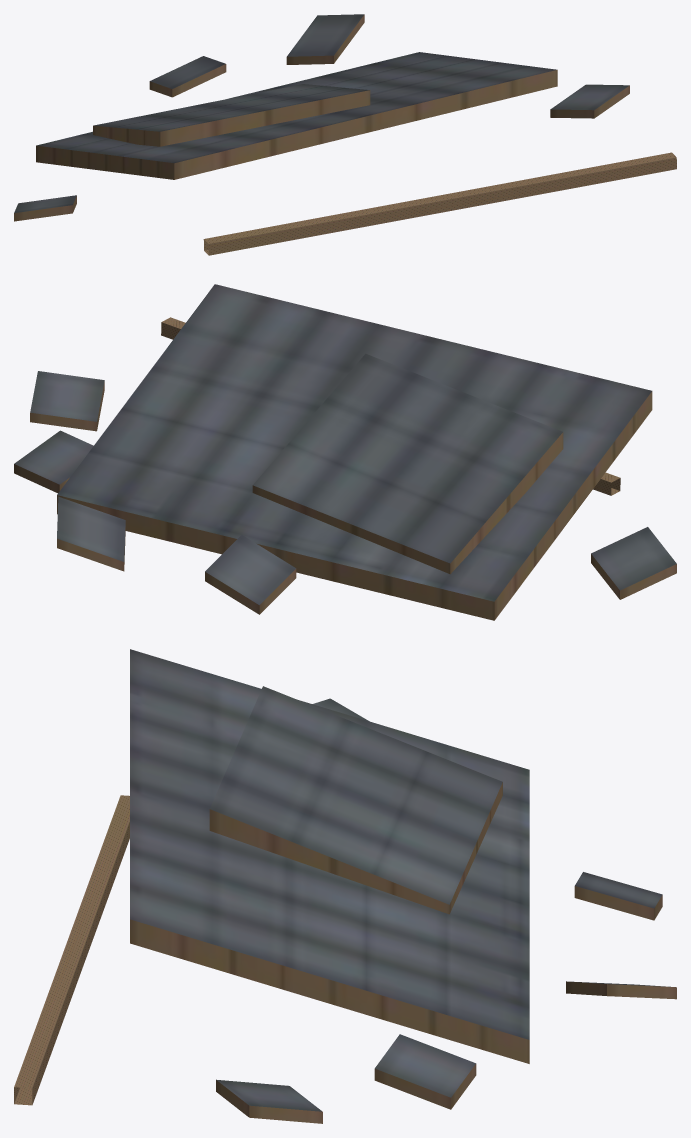
Rendered from debris_tokyo_roof_tiles.glb.
The picture shows the model from 3 angles, top to bottom: view 1: azimuth 30°, elevation 25°; view 2: azimuth 150°, elevation 25°; view 3: azimuth 270°, elevation 25°; orthographic projection. The views are drawn at different scales.
Parts seen in each view (by area): view 1: debris_tokyo_roof_tiles; view 2: debris_tokyo_roof_tiles; view 3: debris_tokyo_roof_tiles.
Part boxes in pixels (bbox=[...]): debris_tokyo_roof_tiles: bbox=[14, 14, 676, 255]; debris_tokyo_roof_tiles: bbox=[14, 284, 676, 620]; debris_tokyo_roof_tiles: bbox=[14, 649, 676, 1123].
Size of the model in its own units: 3.68 by 0.5999 by 2.49.
1 material, 1 textured.
